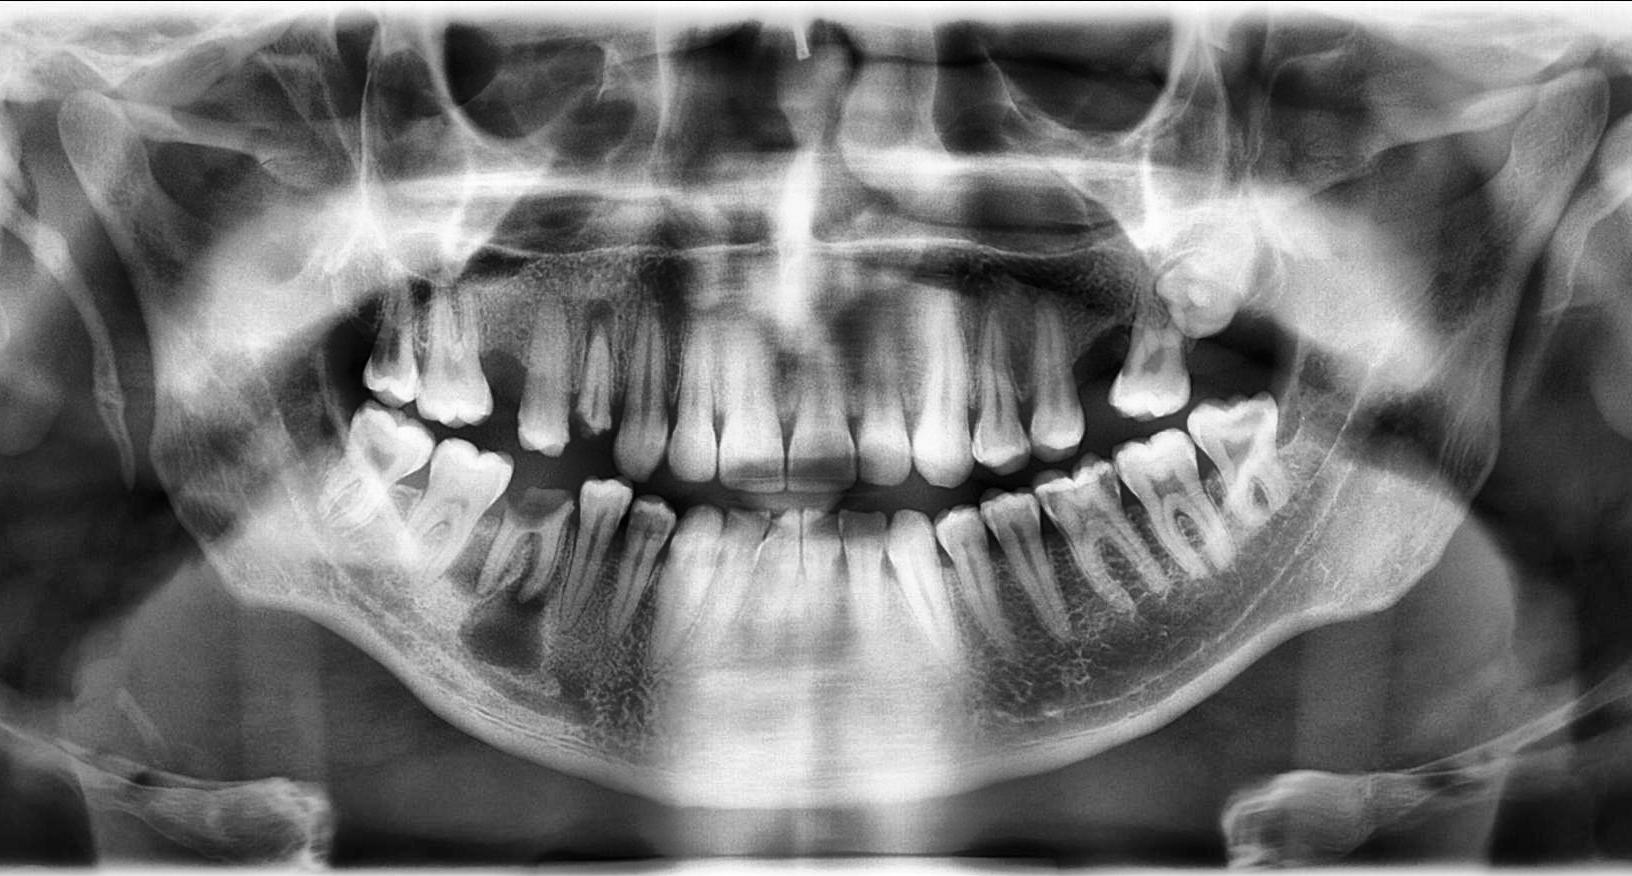radicular: (455, 560, 555, 676), (443, 532, 512, 602)
